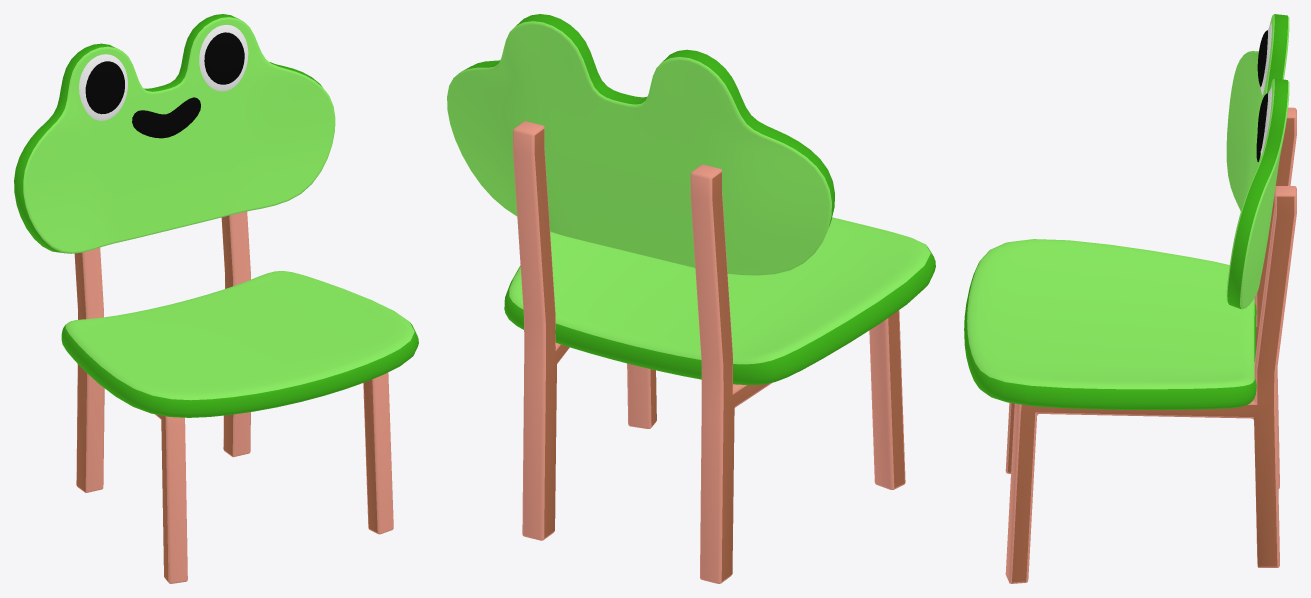
Rendered from froggy_chair.glb.
The picture shows the model from 3 angles, left to right: view 1: azimuth 30°, elevation 25°; view 2: azimuth 150°, elevation 25°; view 3: azimuth 270°, elevation 25°; orthographic projection. The views are drawn at different scales.
Visible parts, largest first — view 1: FroggyChair_0; view 2: FroggyChair_0; view 3: FroggyChair_0.
Boxes of the visible parts, box(x1,y1,x2,y2) form: FroggyChair_0: box(14, 14, 418, 583); FroggyChair_0: box(447, 14, 935, 583); FroggyChair_0: box(964, 14, 1296, 583).
Bounding box in the file's own units: 3.5 × 4.57 × 2.9.
